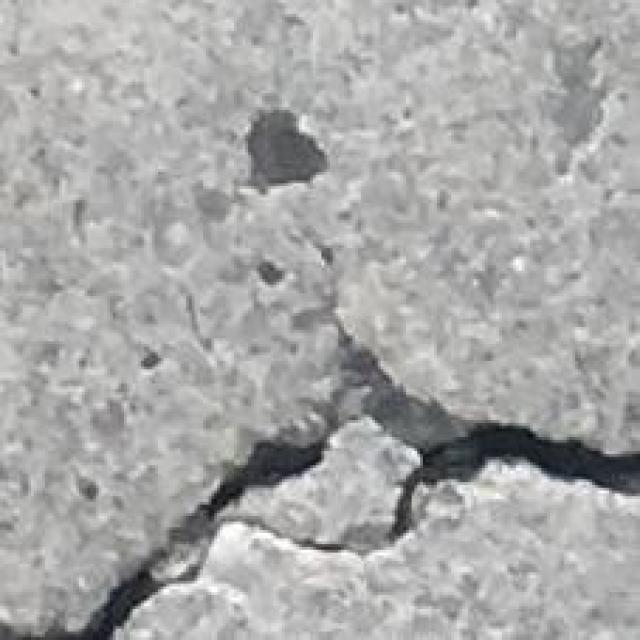Crack: (59, 341, 640, 640)
